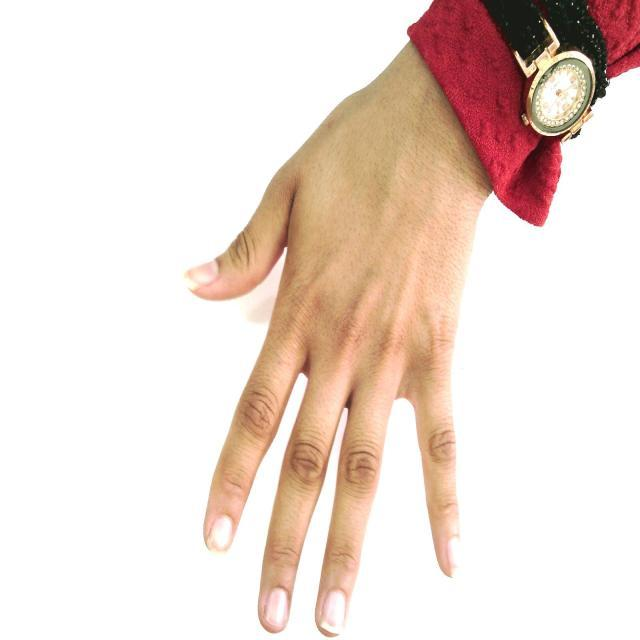Fingernail: (321, 589, 345, 635), (264, 588, 288, 628), (209, 516, 233, 552), (185, 262, 217, 286), (447, 537, 462, 576)
